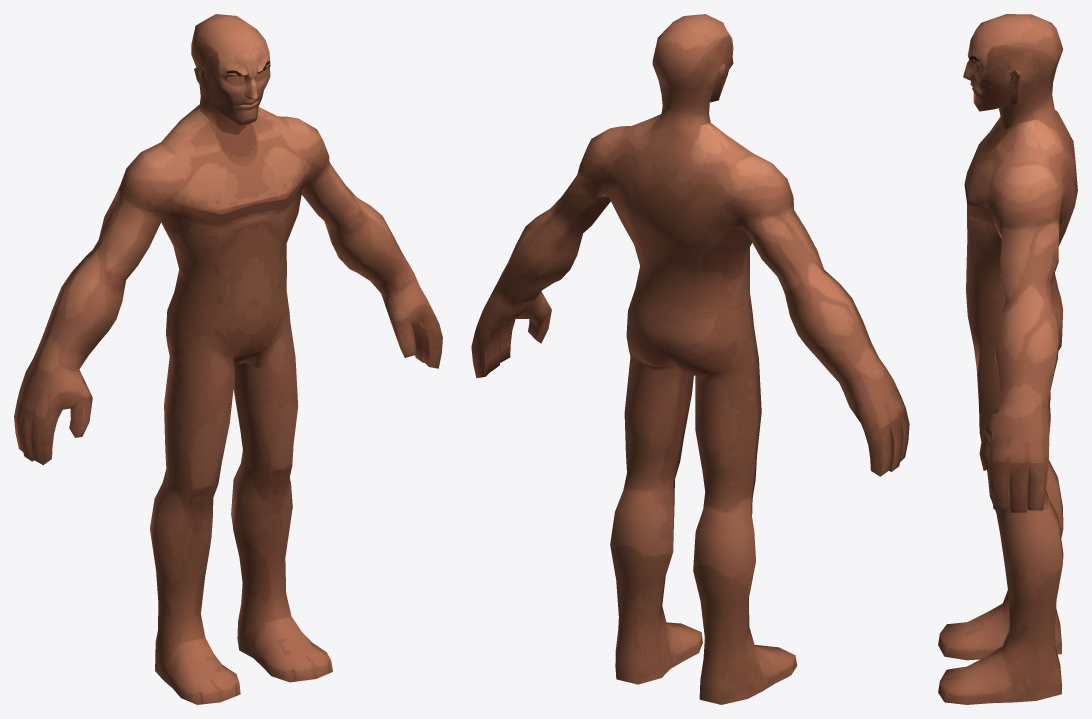
Rendered from npc_hum_m_70965b59.glb.
3 views of the same model, side by side, from view 1: azimuth 30°, elevation 25°; view 2: azimuth 150°, elevation 25°; view 3: azimuth 270°, elevation 25° (orthographic). The views are drawn at different scales.
Bounding box in the file's own units: 1.7 × 2.56 × 0.4981.
1 material, 1 textured.
